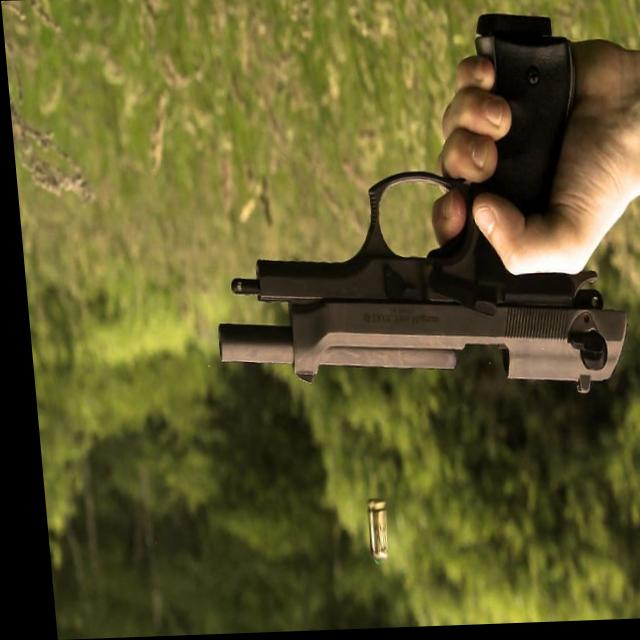handgun: (181, 0, 624, 405)
